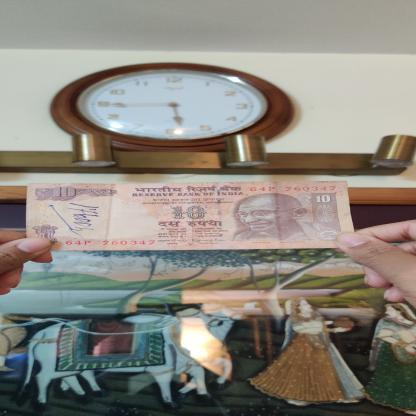Old10Front: (25, 181, 359, 250)
